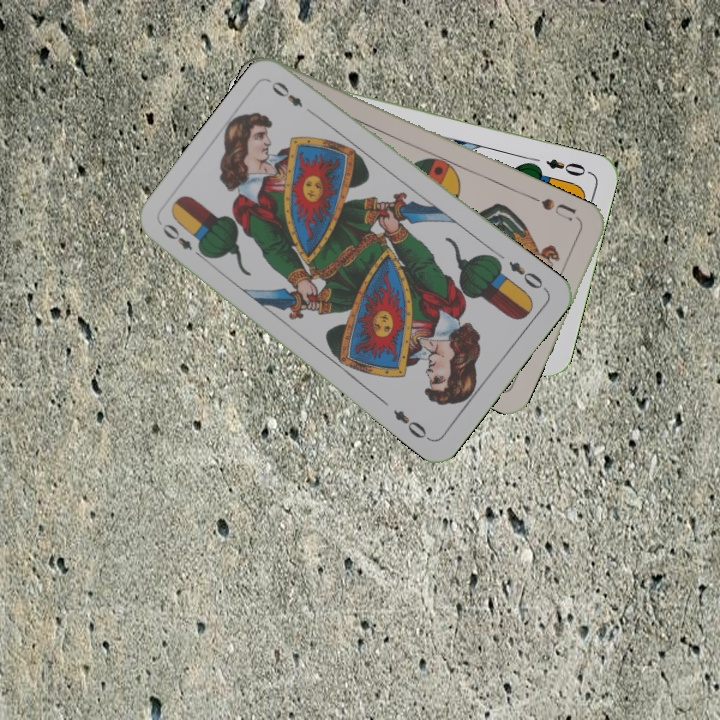EO: (158, 219, 209, 262), (504, 257, 550, 293), (542, 154, 593, 179)
SU: (537, 194, 579, 224)
